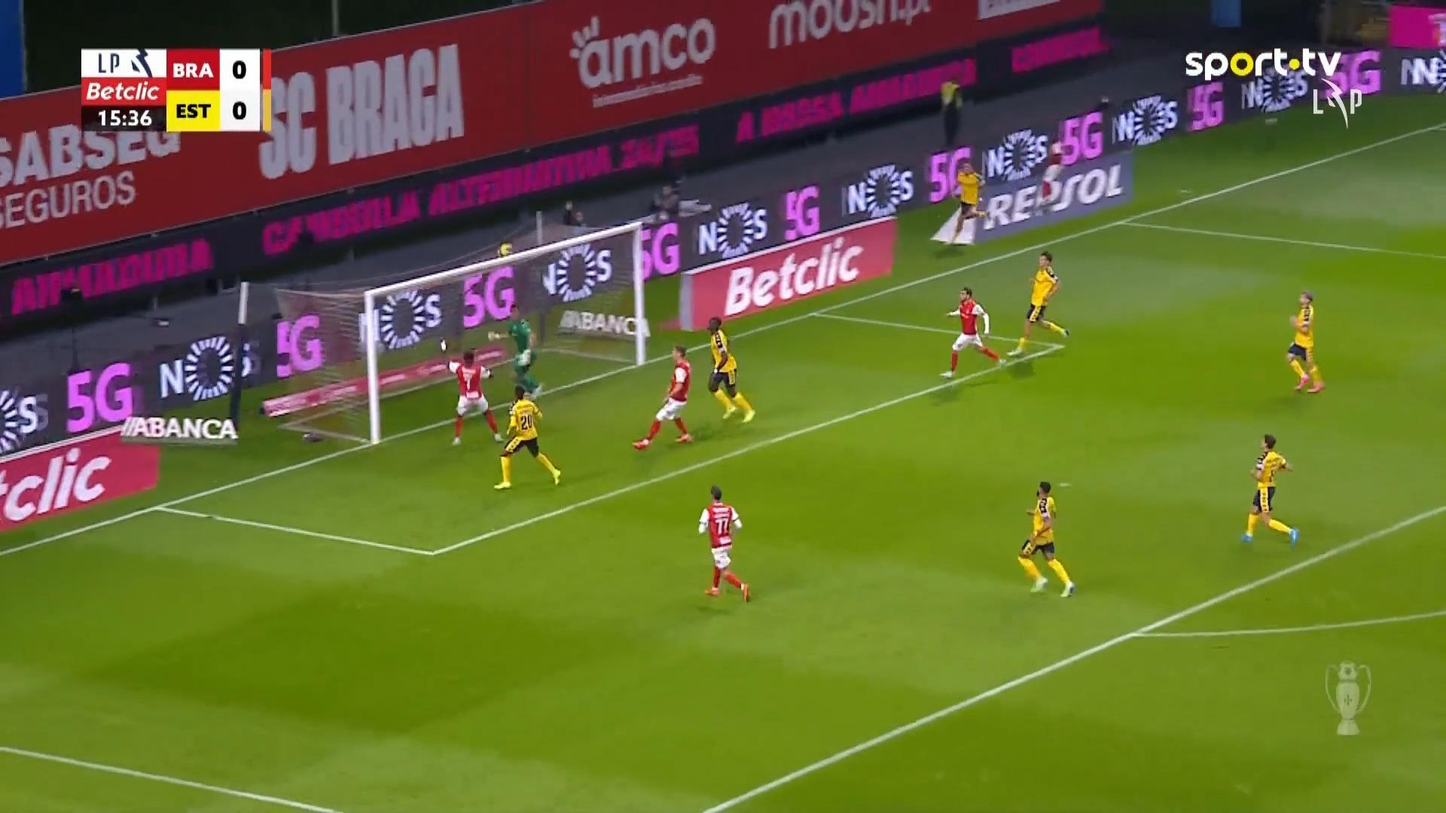ball: (496, 242, 514, 258)
goalkeeper: (501, 303, 545, 397)
player: (494, 386, 563, 490), (1017, 482, 1075, 600), (440, 339, 503, 447), (1006, 251, 1069, 357), (631, 344, 692, 451), (1243, 432, 1299, 545), (698, 484, 751, 602), (941, 285, 1007, 379), (706, 318, 757, 425), (1283, 289, 1327, 394)
